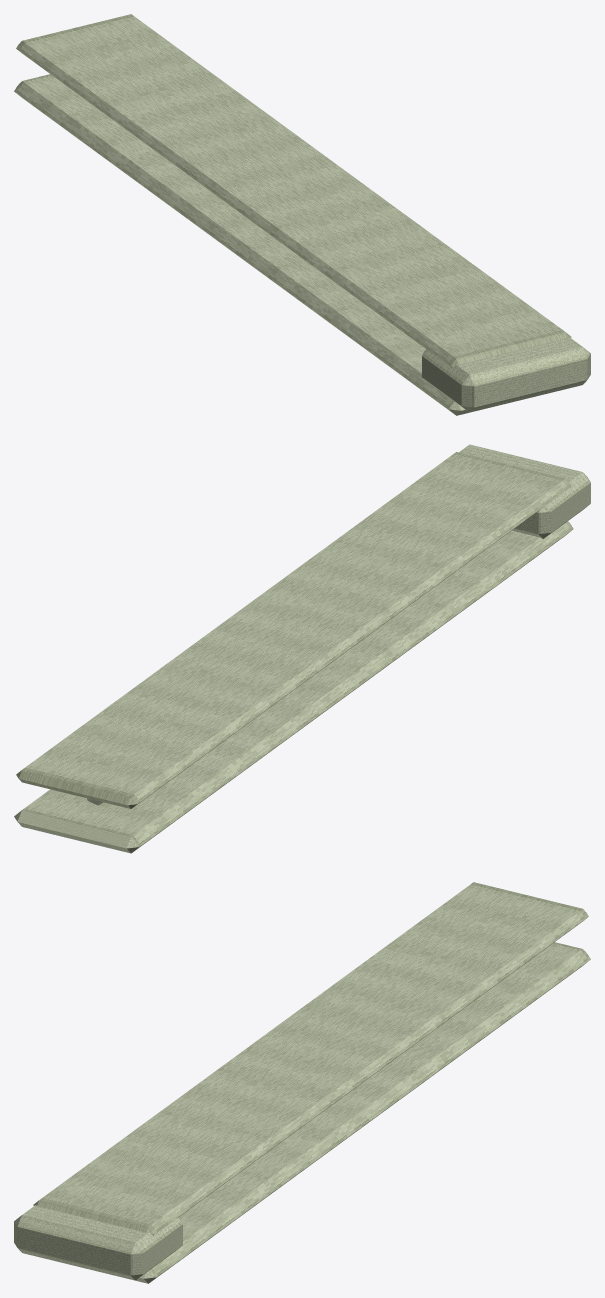
Rendered from blender_ectoplasm_sampler_1.glb.
3 renders of one model, top to bottom at view 1: azimuth 30°, elevation 25°; view 2: azimuth 150°, elevation 25°; view 3: azimuth 330°, elevation 25°, orthographic.
Parts seen in each view (by area): view 1: blender_ectoplasm_sampler_1; view 2: blender_ectoplasm_sampler_1; view 3: blender_ectoplasm_sampler_1.
Boxes of the visible parts, x1,y1,x2,y2 form: blender_ectoplasm_sampler_1: (14,14,590,415); blender_ectoplasm_sampler_1: (14,444,590,853); blender_ectoplasm_sampler_1: (14,882,590,1283).
Bounding box in the file's own units: 0.032 × 0.0135 × 0.1965.
3 materials, 3 textured.
